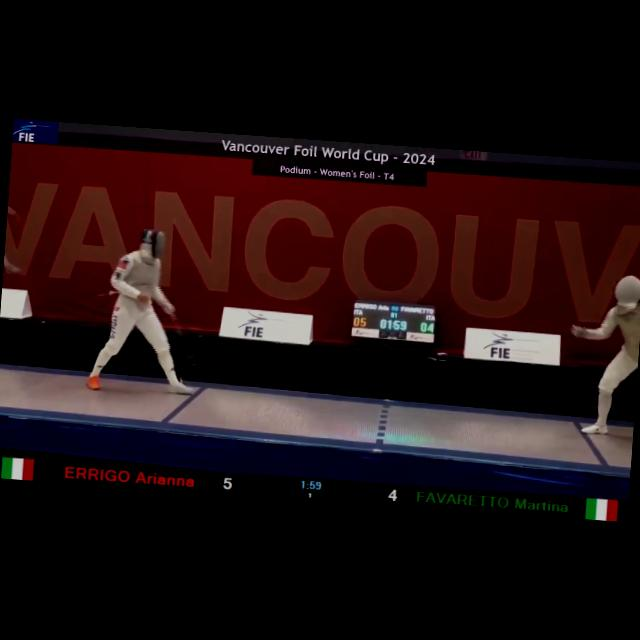blade: (158, 303, 206, 380)
